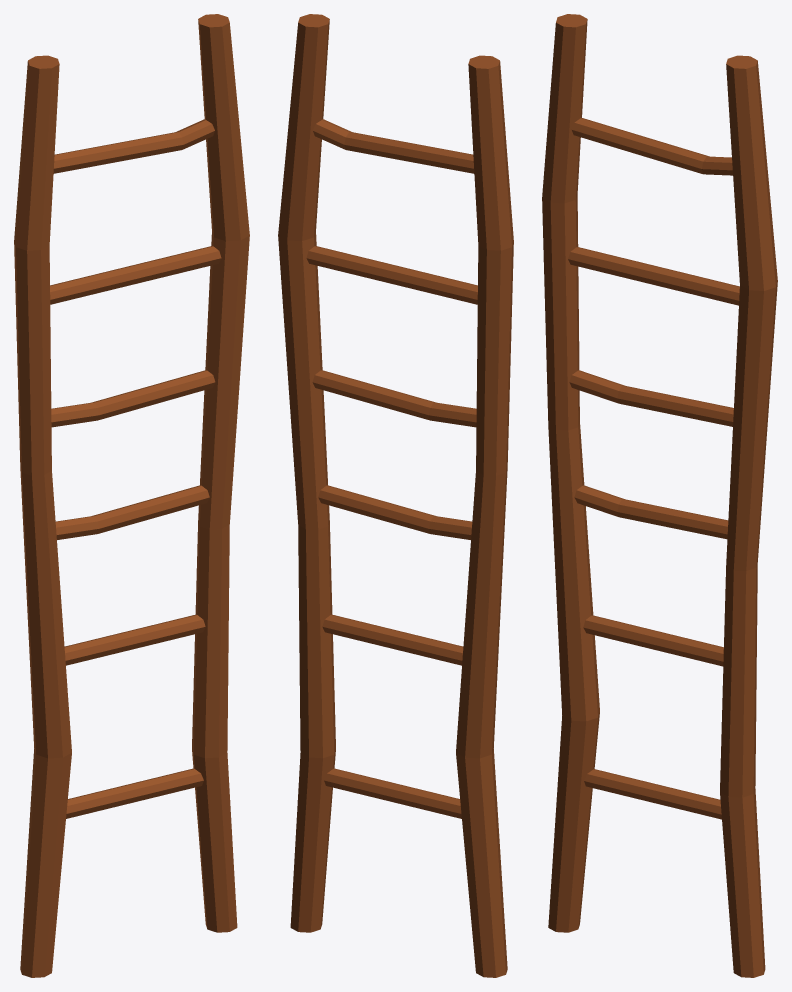
The model's file is Ladder.fbx.
3 views of the same model, side by side, from view 1: azimuth 30°, elevation 25°; view 2: azimuth 150°, elevation 25°; view 3: azimuth 330°, elevation 25° (orthographic).
Parts seen in each view (by area): view 1: Ladder; view 2: Ladder; view 3: Ladder.
Boxes of the visible parts, left/top/right/bottom form: Ladder: left=14, top=14, right=249, bottom=977; Ladder: left=278, top=14, right=513, bottom=977; Ladder: left=542, top=14, right=777, bottom=977.
Bounding box in the file's own units: 1.06 × 3.94 × 0.1547.
